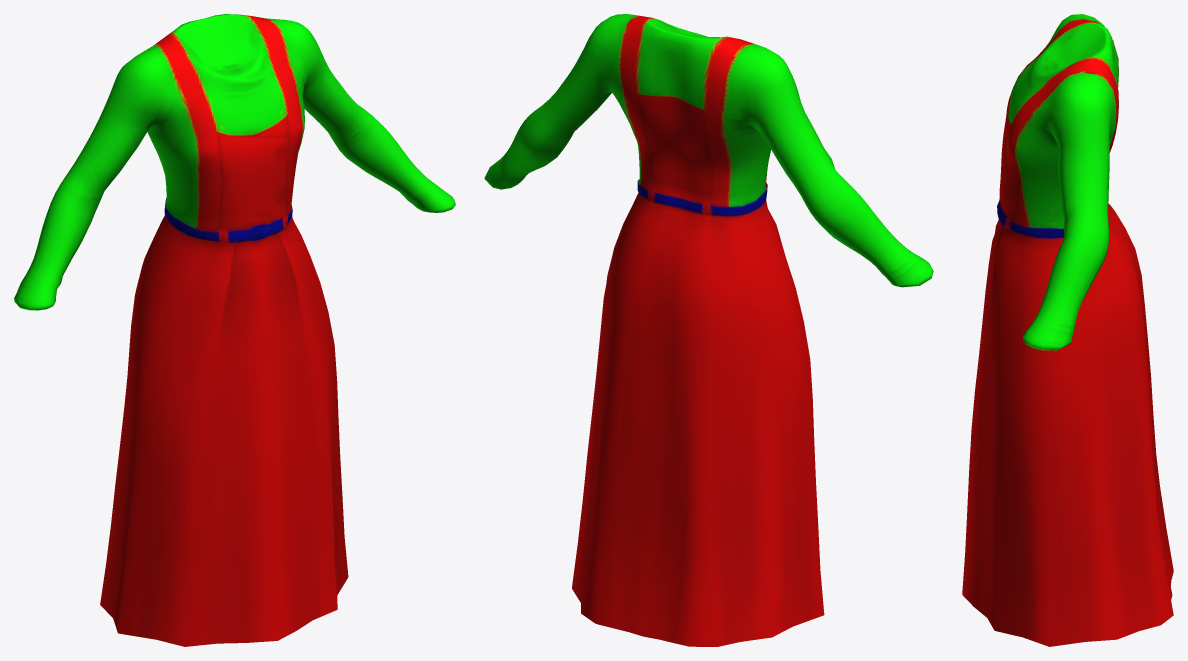
File: Overall_SmartDress.obj
3 renders of one model, left to right at view 1: azimuth 30°, elevation 25°; view 2: azimuth 150°, elevation 25°; view 3: azimuth 270°, elevation 25°, orthographic. The views are drawn at different scales.
Parts seen in each view (by area): view 1: Overall_SmartDress_0; view 2: Overall_SmartDress_0; view 3: Overall_SmartDress_0.
Boxes of the visible parts, x1,y1,x2,y2 form: Overall_SmartDress_0: (14, 14, 455, 646); Overall_SmartDress_0: (484, 14, 933, 646); Overall_SmartDress_0: (962, 14, 1173, 646).
Bounding box in the file's own units: 0.917 × 1.15 × 0.395.
1 material, 1 textured.
